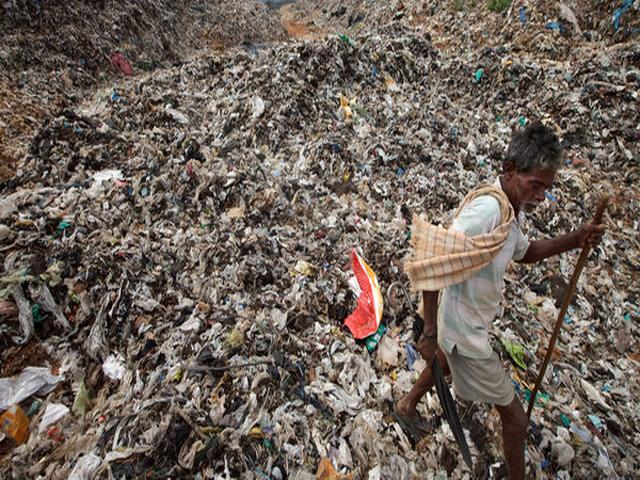garbage: (19, 14, 340, 459), (357, 29, 490, 142)
